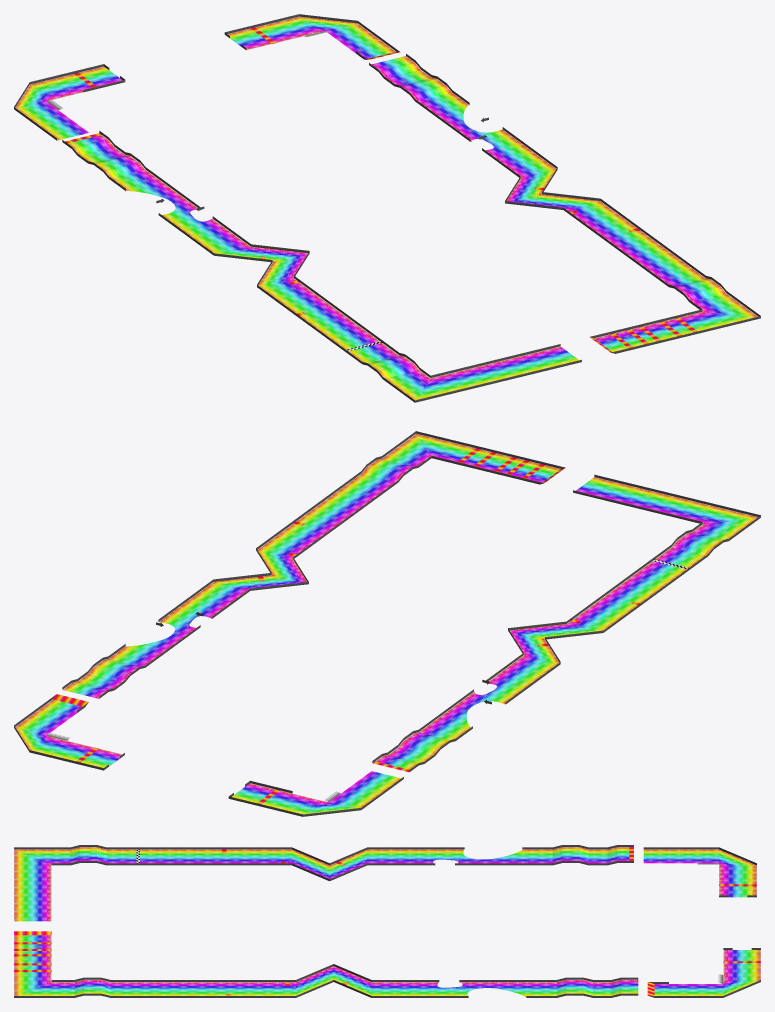
3 renders of one model, top to bottom at view 1: azimuth 30°, elevation 25°; view 2: azimuth 150°, elevation 25°; view 3: azimuth 270°, elevation 25°, orthographic. The views are drawn at different scales.
Visible parts, largest first — view 1: Rainbow_Run-SKP--Material1, Rainbow_Run-SKP--Sketchy_Brick_Herringbone, Rainbow_Run-SKP--Material3; view 2: Rainbow_Run-SKP--Material1, Rainbow_Run-SKP--Sketchy_Brick_Herringbone, Rainbow_Run-SKP--Material3; view 3: Rainbow_Run-SKP--Material1, Rainbow_Run-SKP--Sketchy_Brick_Herringbone, Rainbow_Run-SKP--Material3.
Part boxes in pixels (x1,y1,x2,y2): Rainbow_Run-SKP--Material1: [15, 16, 757, 400]; Rainbow_Run-SKP--Sketchy_Brick_Herringbone: [14, 14, 760, 402]; Rainbow_Run-SKP--Material3: [65, 27, 697, 352]; Rainbow_Run-SKP--Material1: [15, 433, 757, 814]; Rainbow_Run-SKP--Sketchy_Brick_Herringbone: [14, 431, 760, 816]; Rainbow_Run-SKP--Material3: [53, 448, 639, 804]; Rainbow_Run-SKP--Material1: [14, 847, 760, 996]; Rainbow_Run-SKP--Sketchy_Brick_Herringbone: [14, 845, 760, 997]; Rainbow_Run-SKP--Material3: [14, 847, 760, 995].
Bounding box in the file's own units: 37255 × 997 × 79199.
5 materials, 5 textured.
